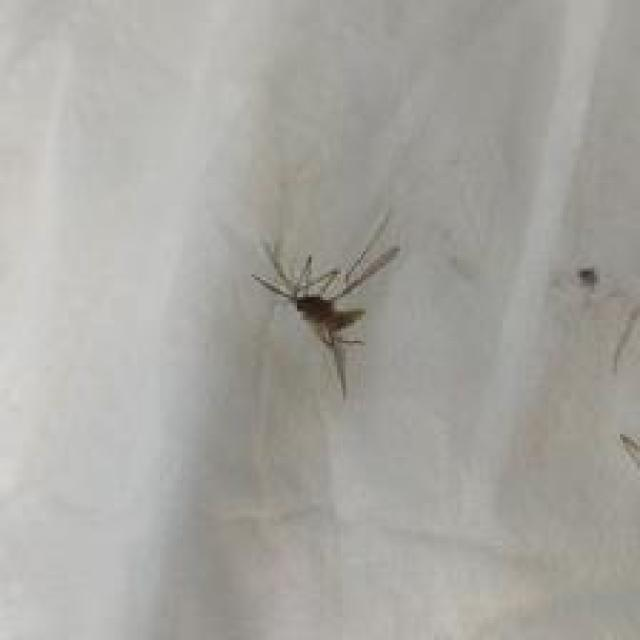Culex: (250, 209, 401, 400)
